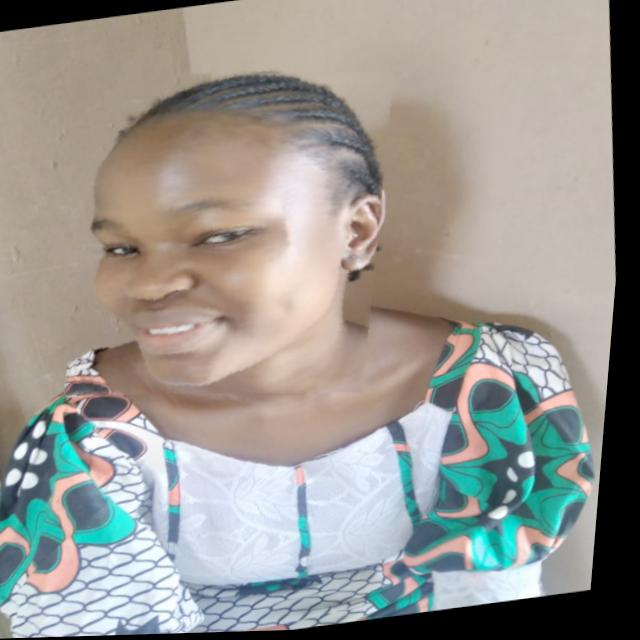happy: (45, 45, 420, 423)
